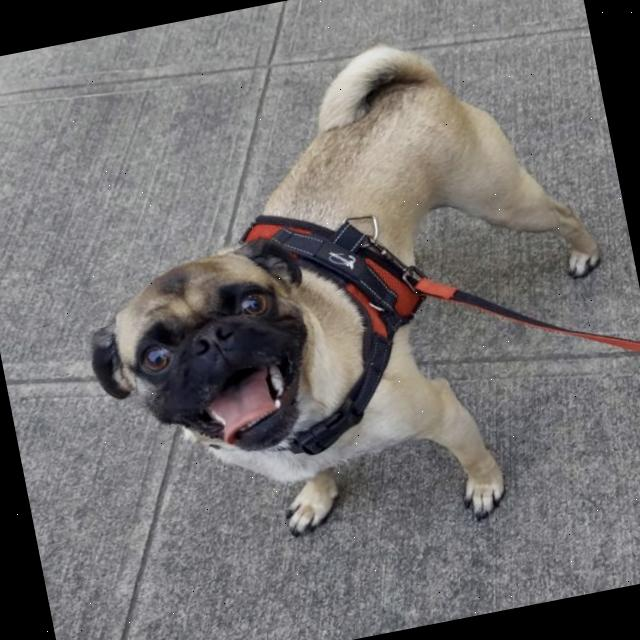pug_dog: (69, 214, 362, 492)
